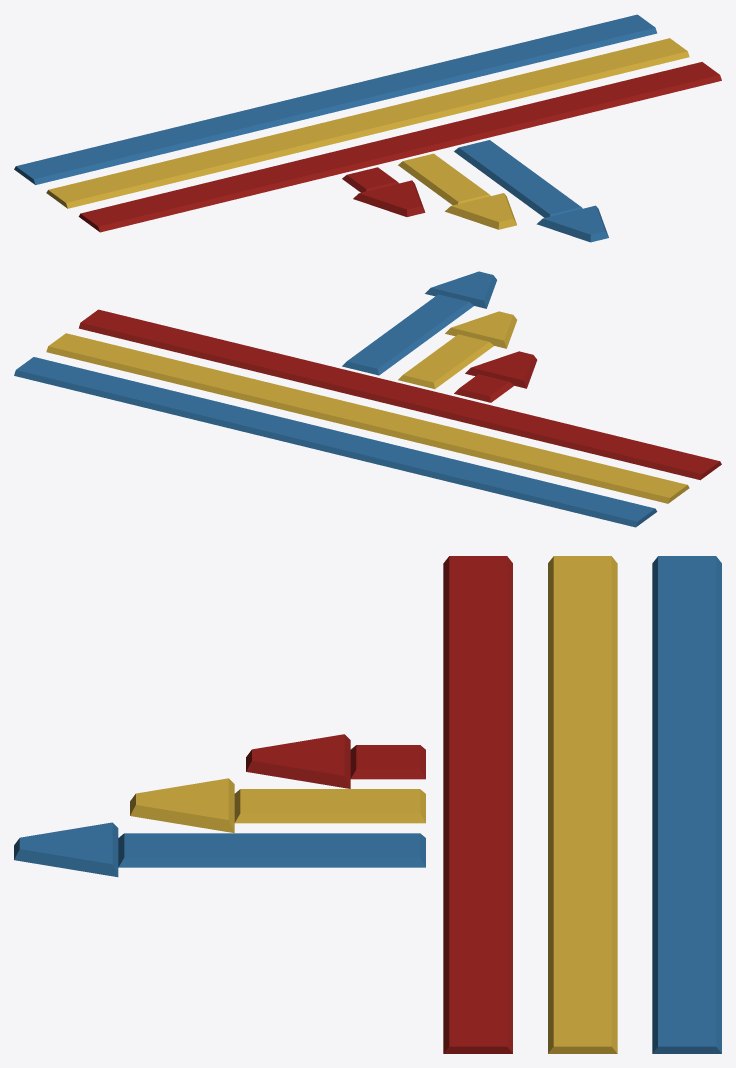
File: wayfinding-stripe-decal-017b76.glb
3 views of the same model, one above another, from view 1: azimuth 30°, elevation 25°; view 2: azimuth 150°, elevation 25°; view 3: azimuth 270°, elevation 25° (orthographic). The views are drawn at different scales.
Visible parts, largest first — view 1: route-marking; view 2: route-marking; view 3: route-marking.
Part boxes in pixels (x1,y1,x2,y2): route-marking: [14, 14, 721, 242]; route-marking: [14, 271, 721, 527]; route-marking: [14, 556, 721, 1053].
Bounding box in the file's own units: 2 × 0.018 × 1.22.
